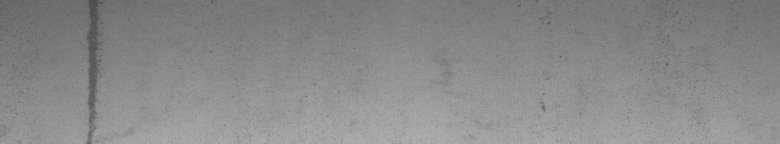hd: (82, 4, 104, 136)
